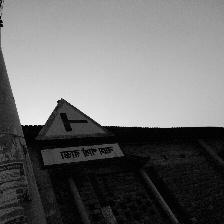Side-road-left: (38, 94, 126, 168)
